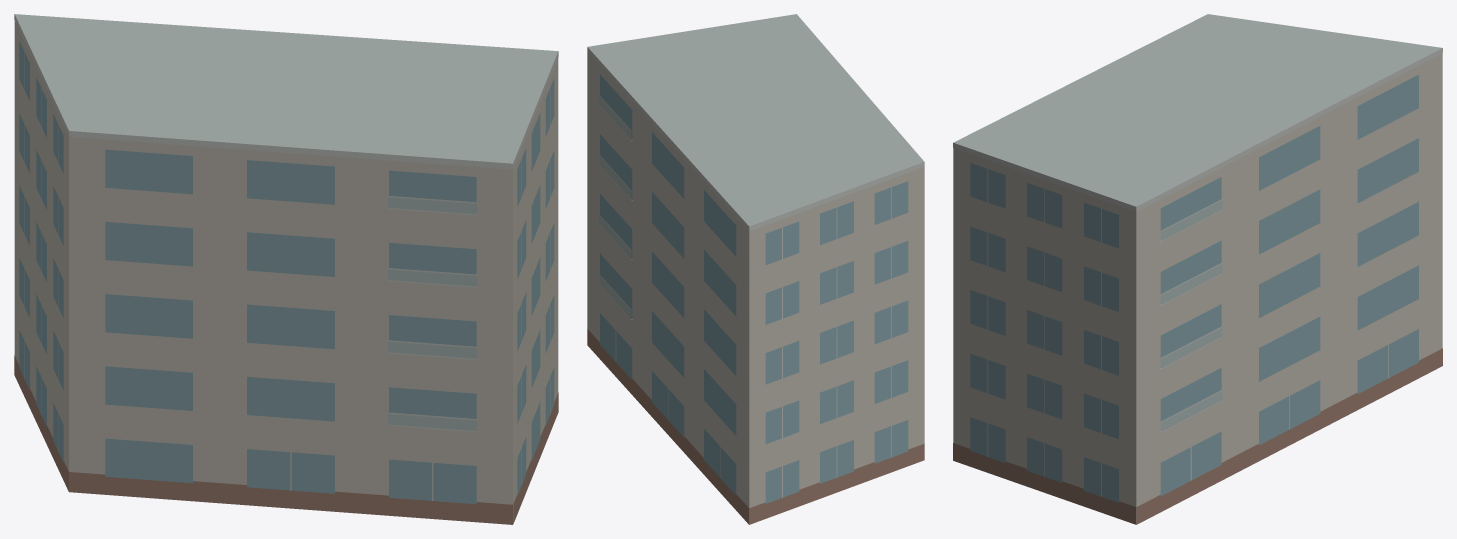
The model's file is survey-upis-32995328.glb.
3 views of the same model, side by side, from view 1: azimuth 30°, elevation 25°; view 2: azimuth 150°, elevation 25°; view 3: azimuth 270°, elevation 25° (orthographic). The views are drawn at different scales.
Visible parts, largest first — view 1: survey-upis-32995328.tmp; view 2: survey-upis-32995328.tmp; view 3: survey-upis-32995328.tmp.
Part boxes in pixels (x1,y1,x2,y2): survey-upis-32995328.tmp: (14,14,558,524); survey-upis-32995328.tmp: (587,14,924,524); survey-upis-32995328.tmp: (953,14,1442,524).
Size of the model in its own units: 19.25 by 14.8 by 20.65.
